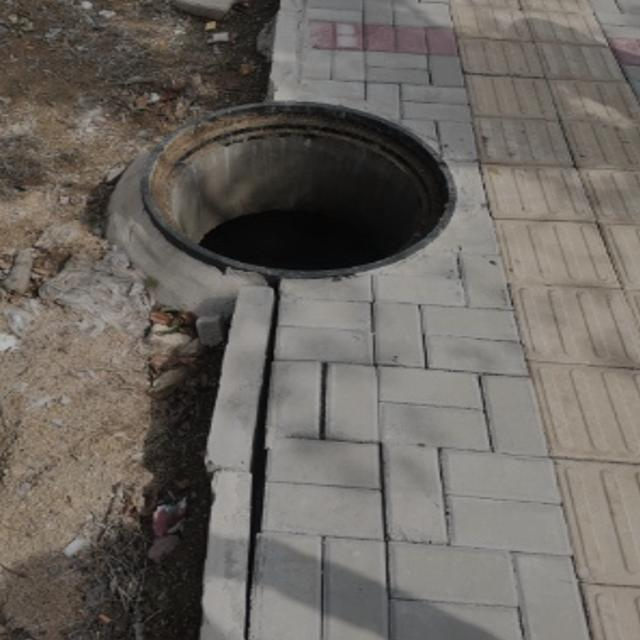lose: (141, 100, 460, 277)
